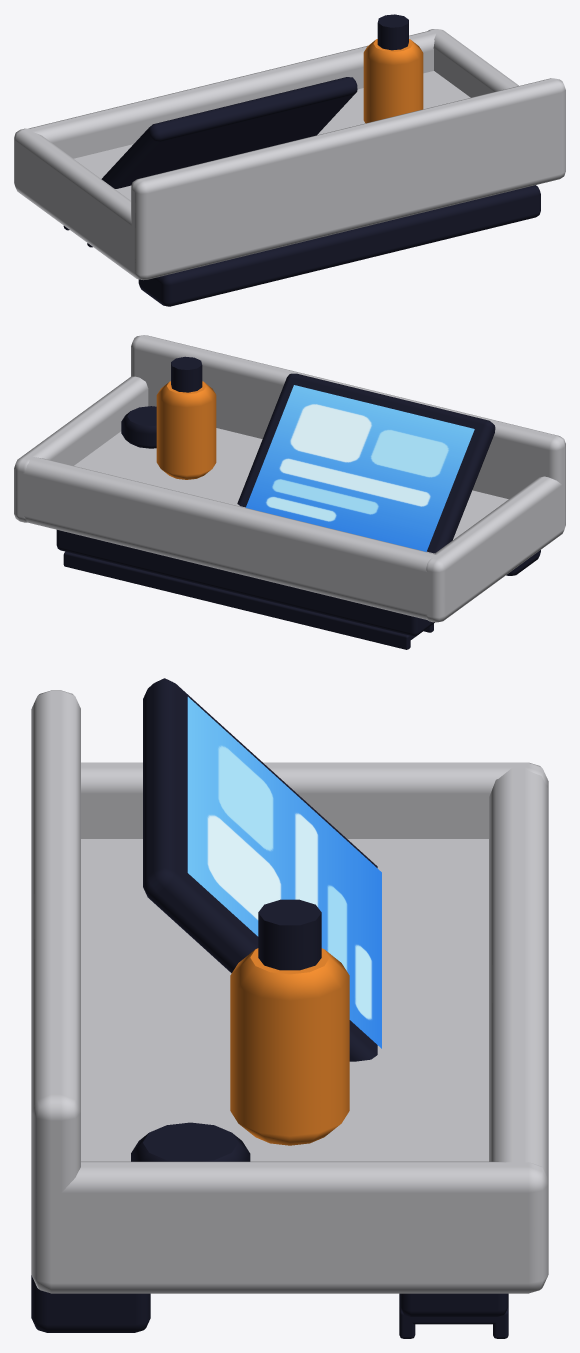
Rendered from prop.props_workrooms.wall_shelf_screen.glb.
3 renders of one model, top to bottom at view 1: azimuth 30°, elevation 25°; view 2: azimuth 150°, elevation 25°; view 3: azimuth 270°, elevation 25°, orthographic. The views are drawn at different scales.
Parts seen in each view (by area): view 1: prop.props_workrooms.wall_shelf_screen; view 2: prop.props_workrooms.wall_shelf_screen; view 3: prop.props_workrooms.wall_shelf_screen.
Part boxes in pixels (<box>): prop.props_workrooms.wall_shelf_screen: <box>14,14,565,306</box>; prop.props_workrooms.wall_shelf_screen: <box>14,335,565,649</box>; prop.props_workrooms.wall_shelf_screen: <box>31,678,548,1338</box>.
Size of the model in its own units: 0.5 by 0.2 by 0.26.
Materials: 5 (1 with a texture image).
